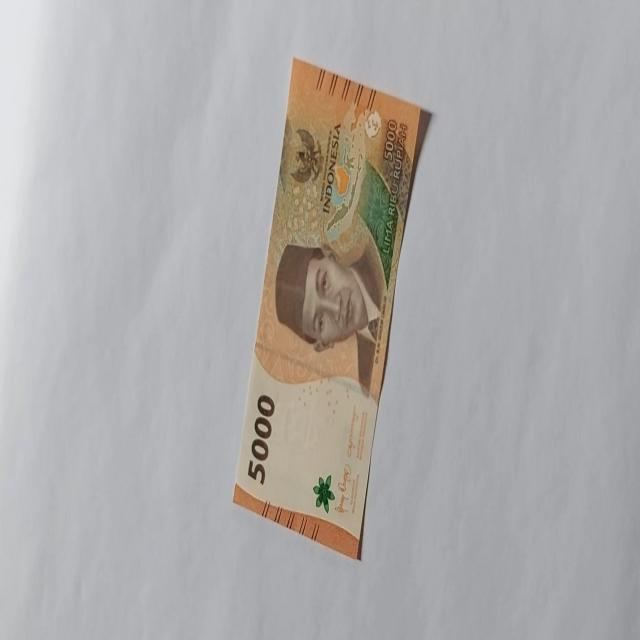lima ribu rupiah: (232, 56, 432, 560)
